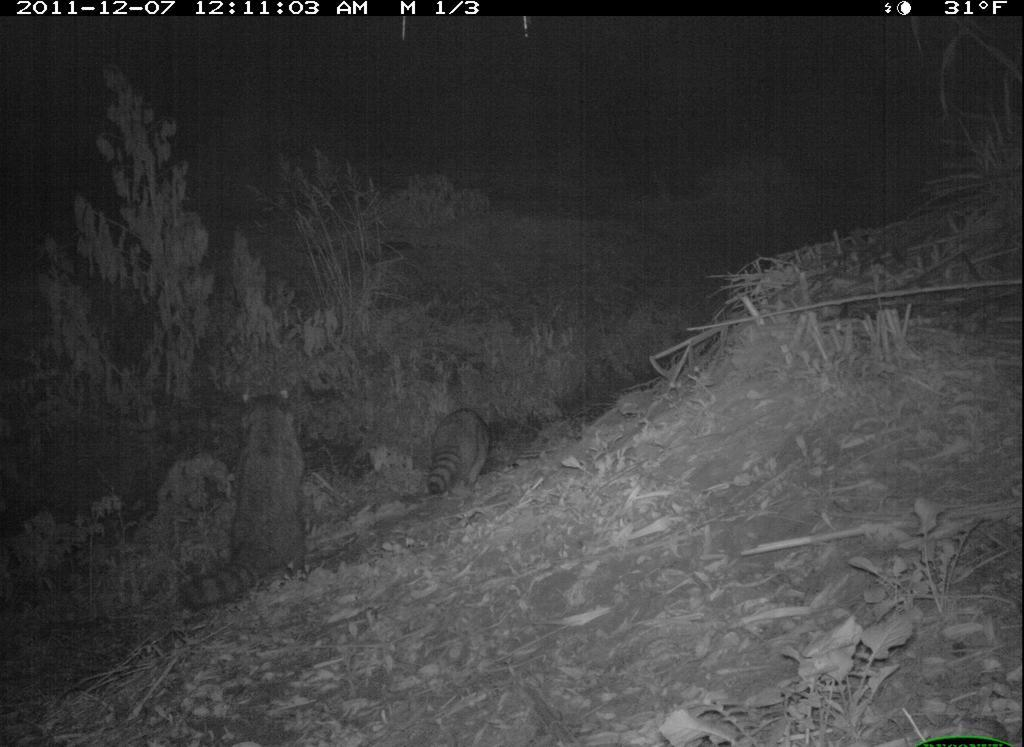raccoon: (173, 370, 324, 615), (399, 404, 496, 502)
